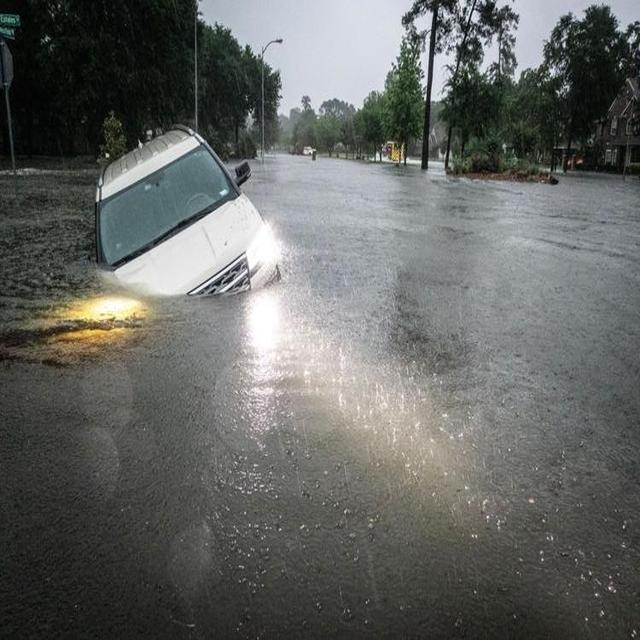Car-RiskLevel3: (87, 119, 289, 304)
